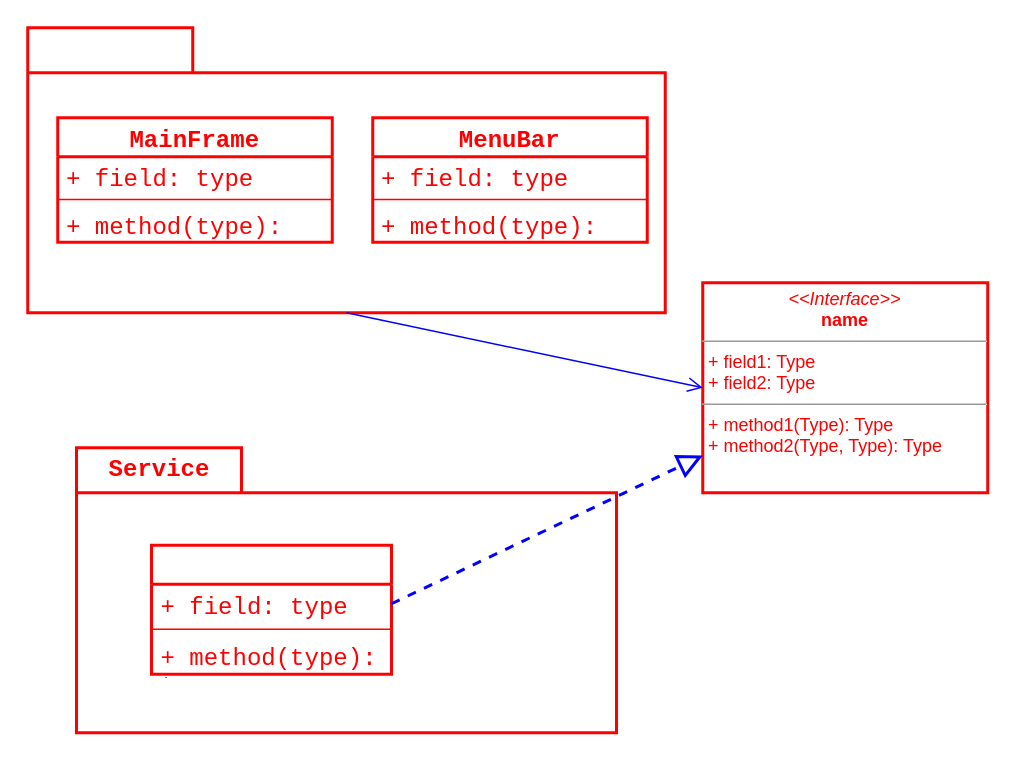
The diagram is 1014 pixels wide and 759 high, and some of its shapes have lost their labels. Each missing label, with the box of its shape:
GUI: (26, 26, 666, 314)
ServiceManager: (149, 543, 392, 675)
